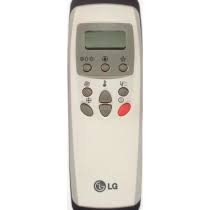remote control: (68, 7, 146, 210)
